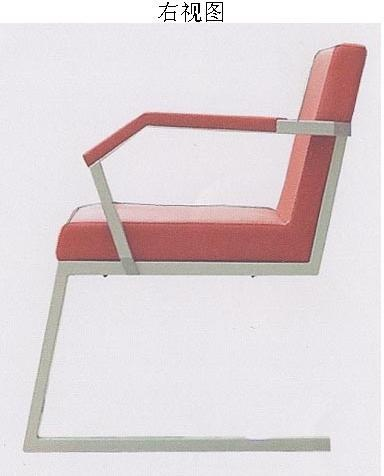obstacle: (24, 44, 365, 451)
